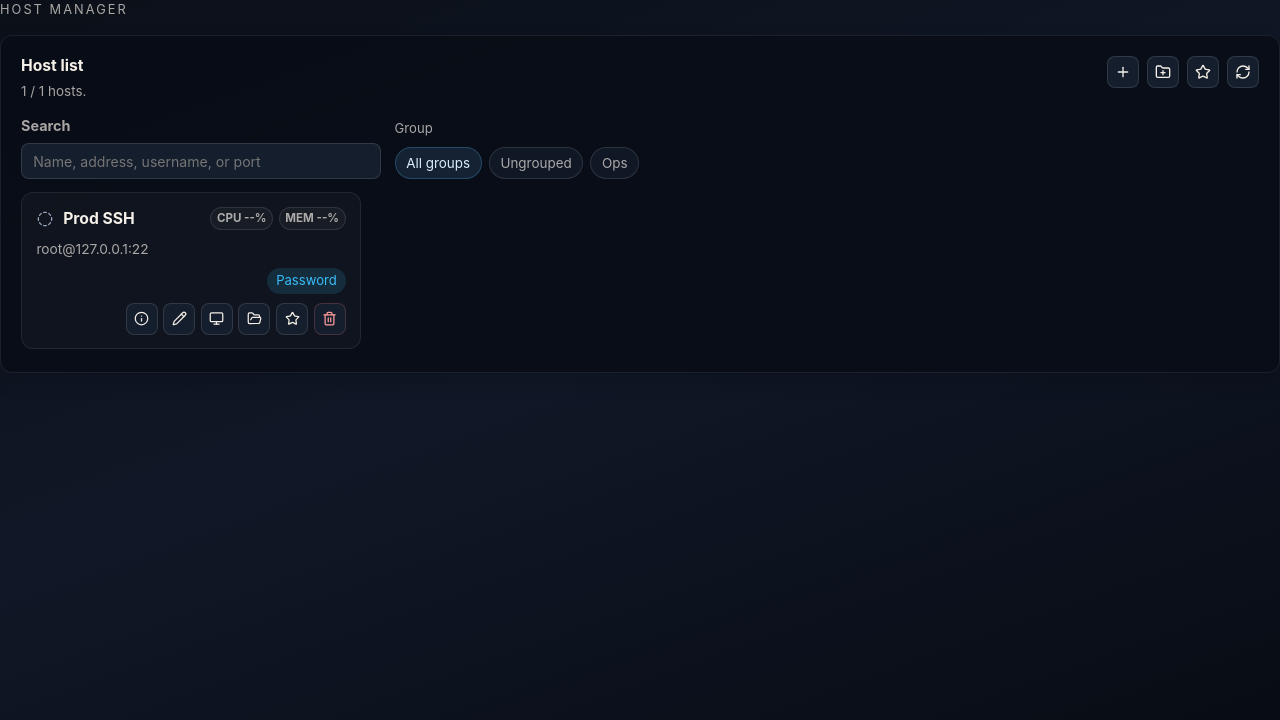
it: HostsPage › retries host testing after fingerprint confirmation and reports success through toast only
Check: the text "Prod SSH" is shown, box x1=63 y1=209 x2=135 y2=228
Click the button named "View details" at [142, 319], box x1=126 y1=303 x2=158 y2=335
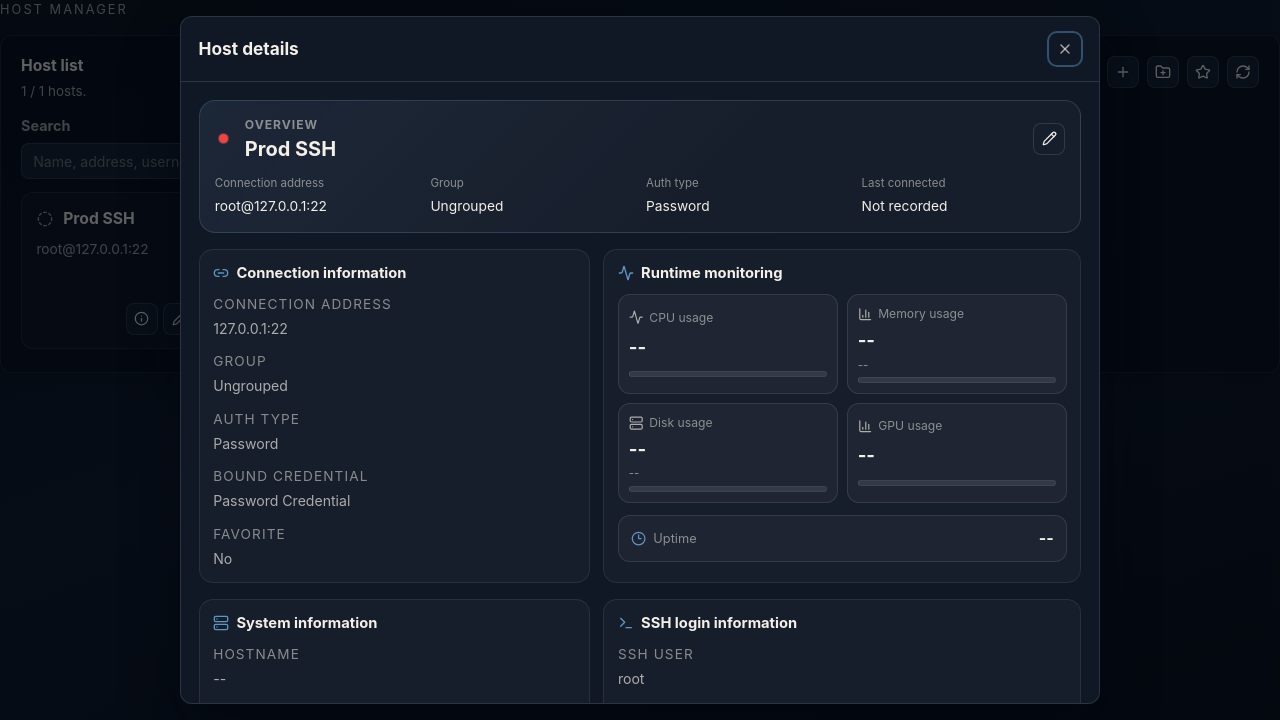
Check: the button "Test connection" is not shown
Check: the heading "Host details" is shown, box x1=199 y1=36 x2=299 y2=62
Click the button named "Edit" at [1049, 139], box x1=1033 y1=123 x2=1065 y2=155
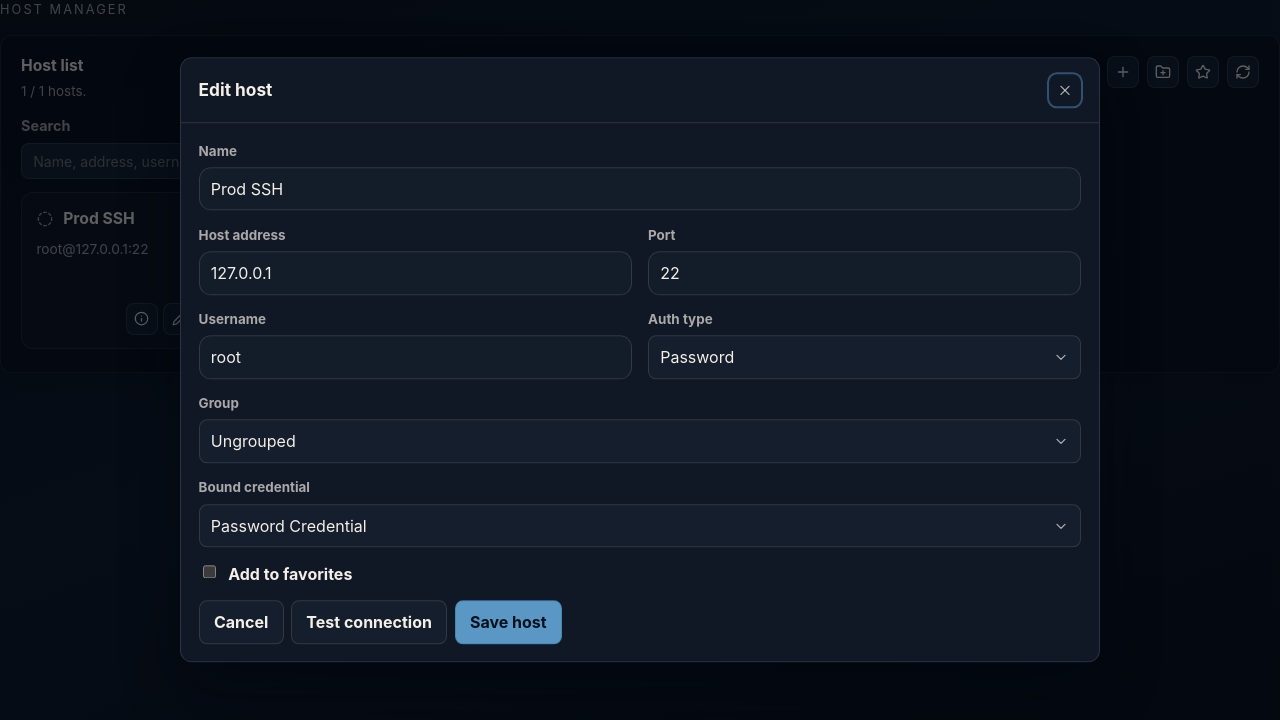
Click the button "Test connection" at [369, 622], box x1=291 y1=600 x2=447 y2=644
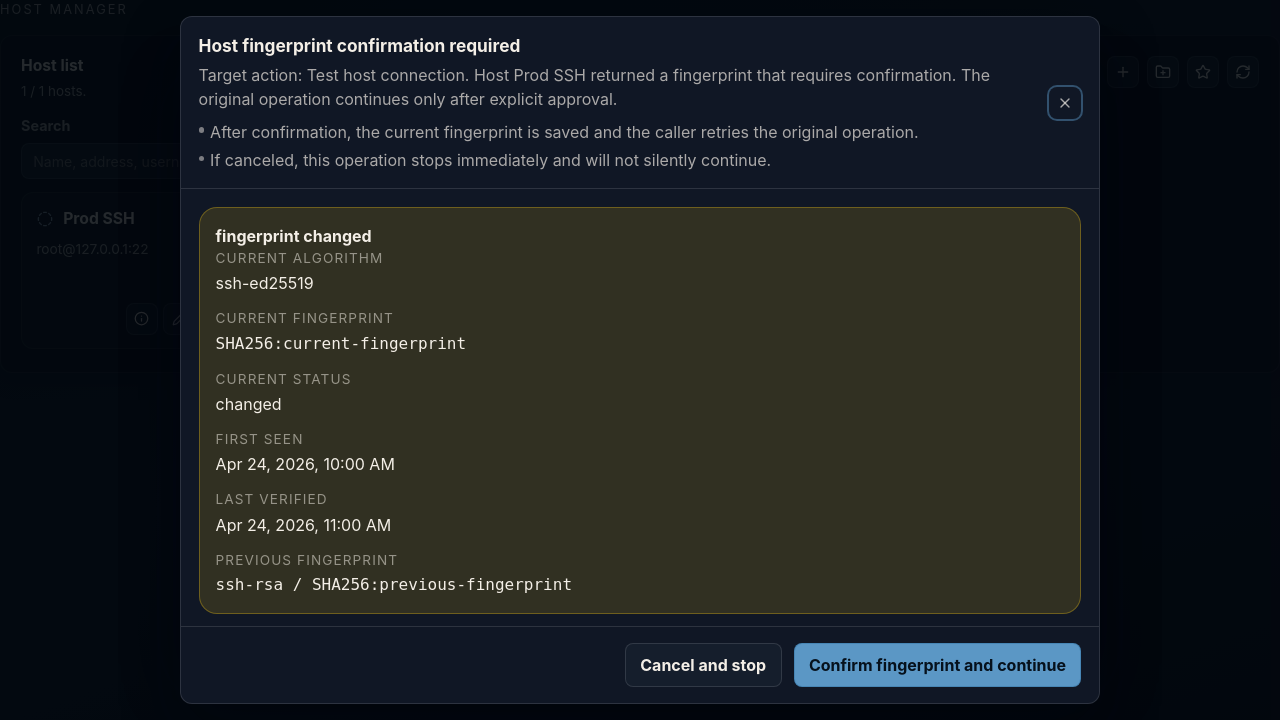
Check: the heading "Host fingerprint confirmation required" is shown, box x1=199 y1=35 x2=520 y2=56
Check: the text "fingerprint changed" is shown, box x1=216 y1=226 x2=372 y2=246
Click the button "Confirm fingerprint and continue" at [937, 665], box x1=794 y1=643 x2=1081 y2=687
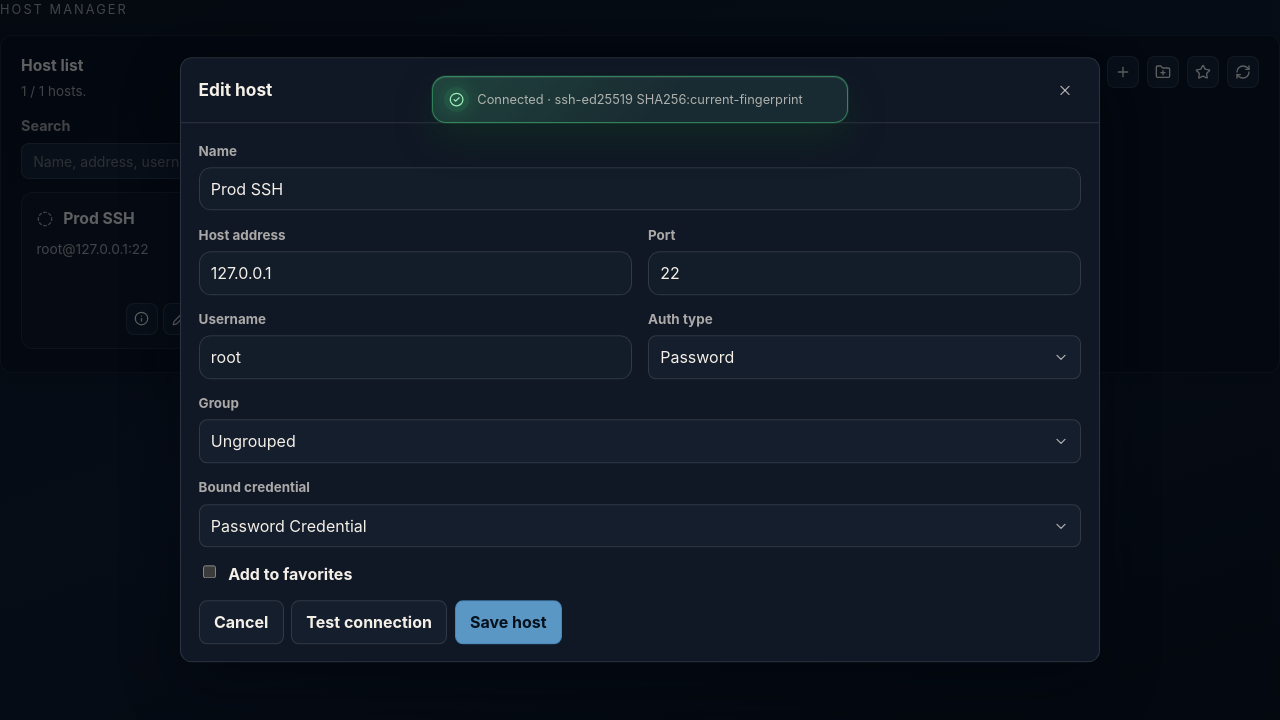
Check: the text "Connected · ssh-ed25519 SHA256:current-fingerprint" is shown, box x1=477 y1=91 x2=803 y2=108
